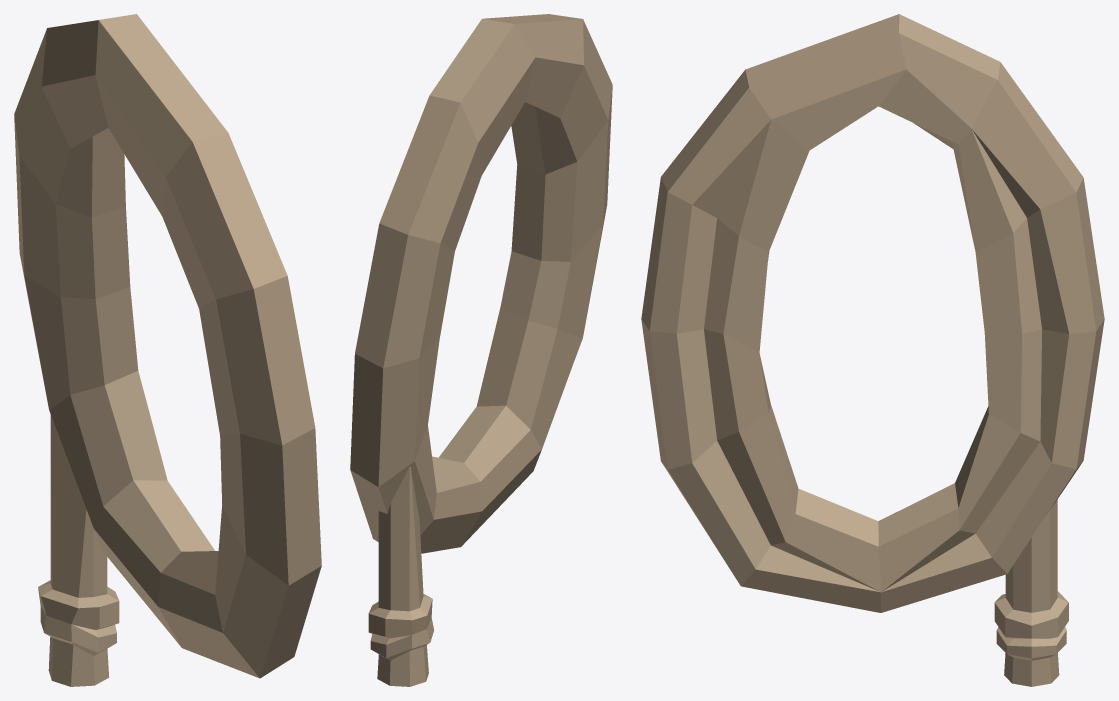
File: SM_Item_Rope_Attachment_01.glb
3 views of the same model, side by side, from view 1: azimuth 30°, elevation 25°; view 2: azimuth 150°, elevation 25°; view 3: azimuth 270°, elevation 25° (orthographic). The views are drawn at different scales.
Parts seen in each view (by area): view 1: SM_Item_Rope_Attachment_01; view 2: SM_Item_Rope_Attachment_01; view 3: SM_Item_Rope_Attachment_01.
Boxes of the visible parts, x1,y1,x2,y2 form: SM_Item_Rope_Attachment_01: [14, 14, 321, 686]; SM_Item_Rope_Attachment_01: [350, 14, 612, 686]; SM_Item_Rope_Attachment_01: [641, 14, 1104, 686].
Bounding box in the file's own units: 0.000641 × 0.00341 × 0.00225.
1 material, 1 textured.
